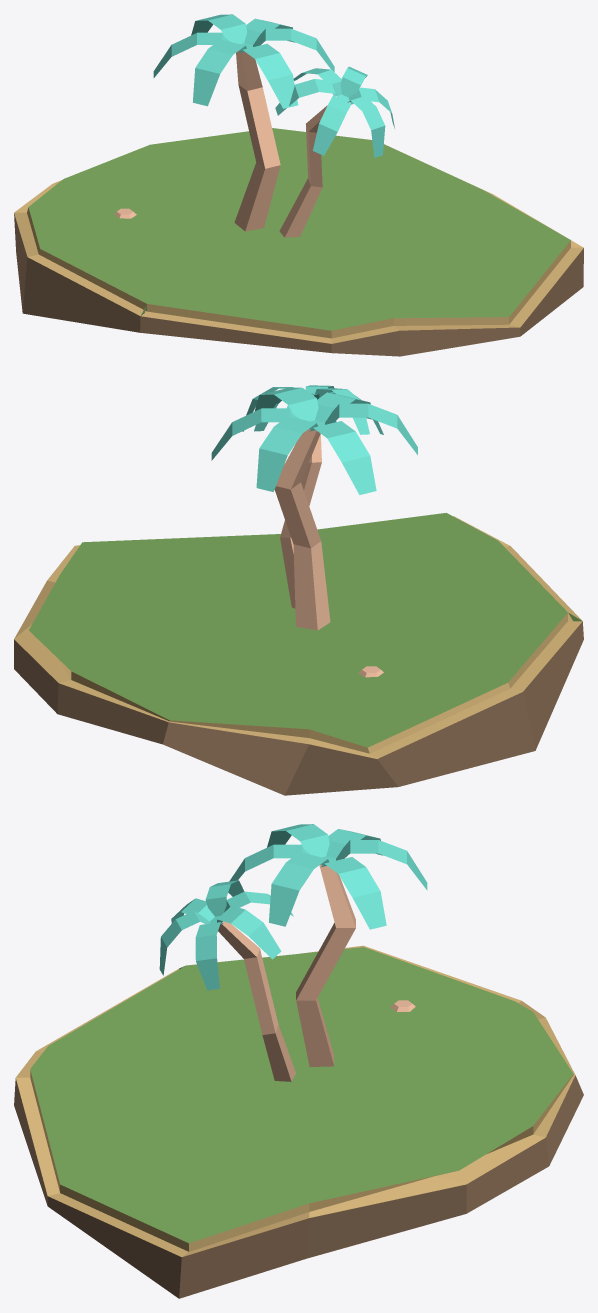
The model's file is island.fbx.
3 renders of one model, top to bottom at view 1: azimuth 30°, elevation 25°; view 2: azimuth 150°, elevation 25°; view 3: azimuth 270°, elevation 25°, orthographic. The views are drawn at different scales.
Visible parts, largest first — view 1: island, tree_palmBend, tree_palmBend.001; view 2: island, tree_palmBend, tree_palmBend.001; view 3: island, tree_palmBend, tree_palmBend.001.
Part boxes in pixels (x1,y1,x2,y2): island: [14, 128, 583, 356]; tree_palmBend: [153, 14, 334, 231]; tree_palmBend.001: [275, 66, 394, 237]; island: [14, 513, 583, 795]; tree_palmBend: [211, 387, 417, 630]; tree_palmBend.001: [242, 385, 383, 608]; island: [14, 945, 583, 1298]; tree_palmBend: [229, 824, 427, 1066]; tree_palmBend.001: [159, 880, 295, 1081].
Bounding box in the file's own units: 1316 × 706 × 1204.
